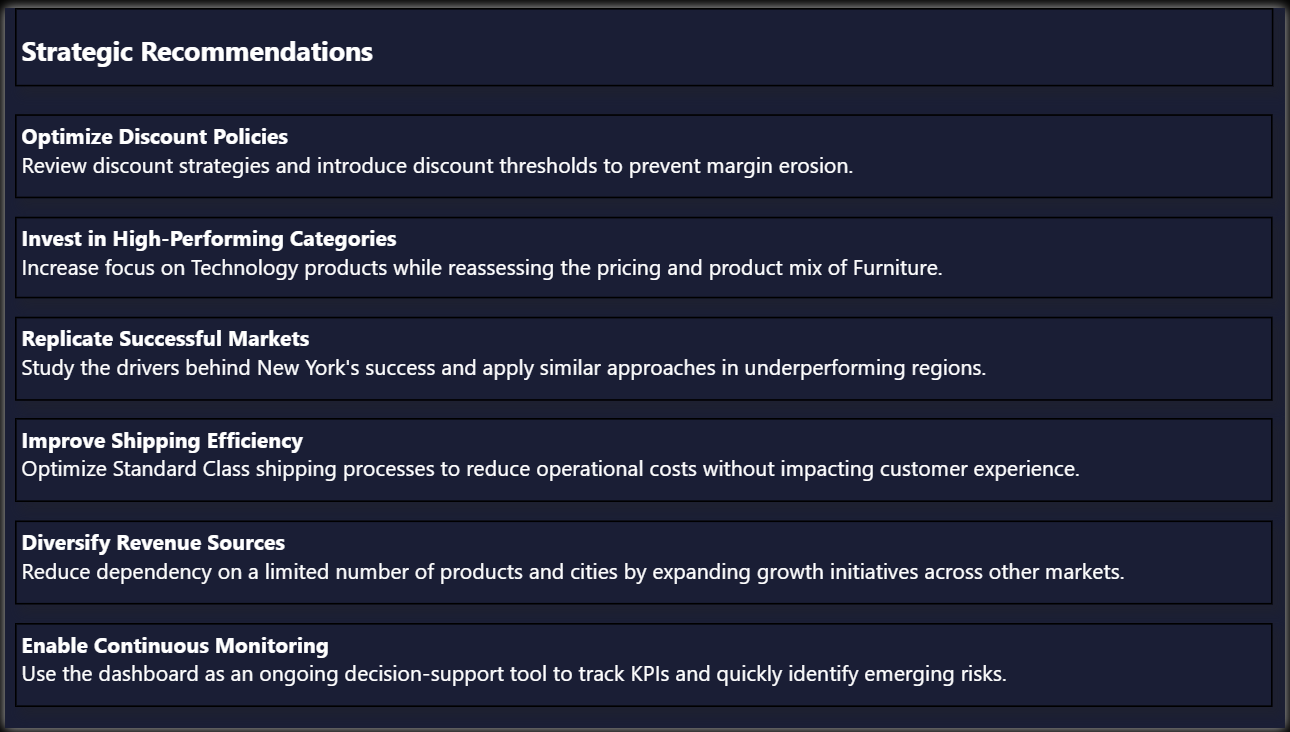

Layout of this report page (visuals, bound fields, positions):
{"tool":"powerbi","page":{"name":"Strategic Recommendations","canvas":[1280,720],"ordinal":8},"visuals":[{"type":"textbox","box":[10,0,1258.8,78.8],"z":0},{"type":"textbox","box":[10,106.2,1257.5,83.8],"z":1000},{"type":"textbox","box":[10,208.5,1257.5,81.2],"z":2000},{"type":"textbox","box":[10,308.2,1257.5,83.8],"z":3000},{"type":"textbox","box":[10,410.5,1257.5,83.8],"z":3002},{"type":"textbox","box":[10,512.8,1257.5,83.8],"z":3003},{"type":"textbox","box":[10,615,1257.5,83.8],"z":3004}]}

Visuals, with their boxes in screenshot pixels (x1, y1, x2, y2), scaled from the page's 1280x720 canvas onto the 1290x732 screenshot:
textbox: pyautogui.locateOnScreen(10, 0, 1279, 80)
textbox: pyautogui.locateOnScreen(10, 108, 1277, 193)
textbox: pyautogui.locateOnScreen(10, 212, 1277, 295)
textbox: pyautogui.locateOnScreen(10, 313, 1277, 399)
textbox: pyautogui.locateOnScreen(10, 417, 1277, 503)
textbox: pyautogui.locateOnScreen(10, 521, 1277, 607)
textbox: pyautogui.locateOnScreen(10, 625, 1277, 710)
